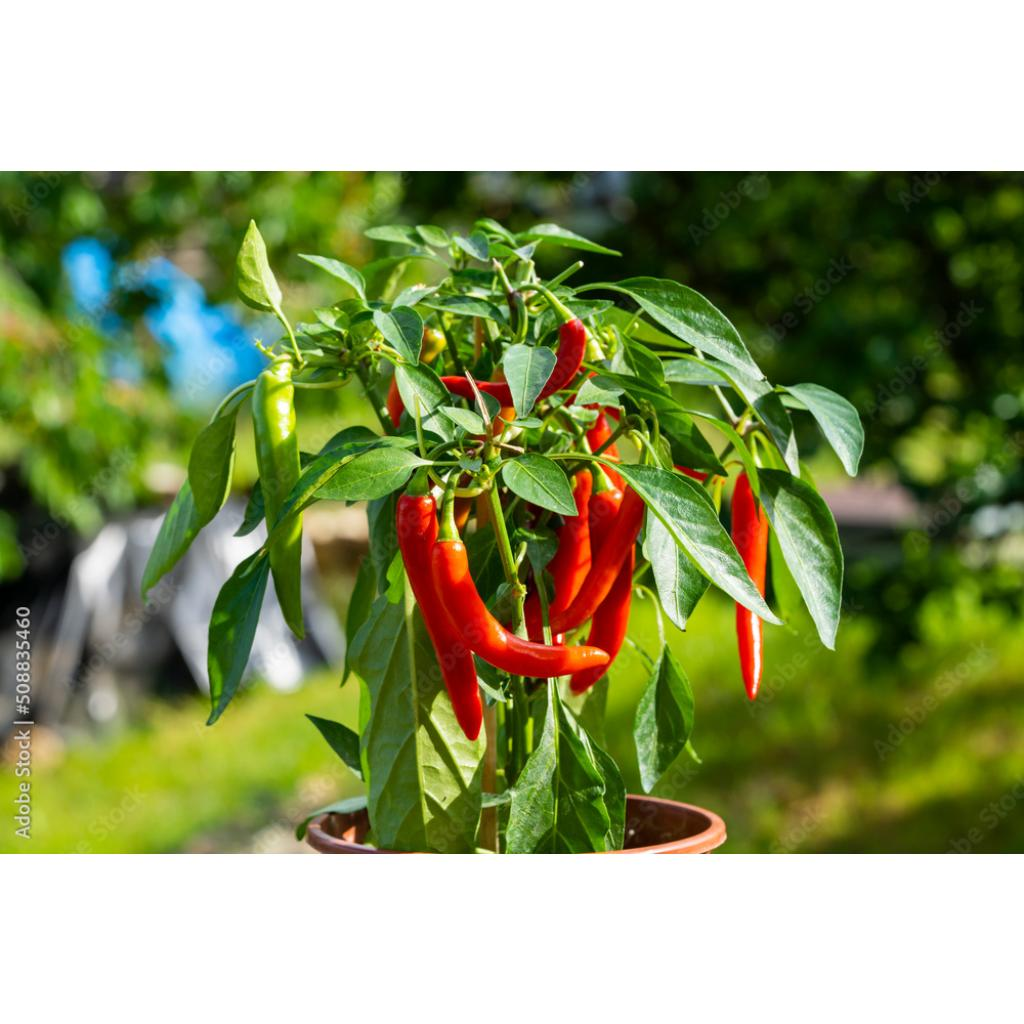chili: (432, 540, 608, 675), (396, 468, 482, 739), (552, 486, 644, 631), (546, 468, 592, 633), (588, 546, 633, 663), (732, 472, 770, 595), (536, 316, 586, 397), (588, 486, 624, 557), (736, 602, 762, 697), (572, 664, 607, 689), (478, 381, 512, 406), (524, 592, 542, 639), (440, 374, 474, 397)
